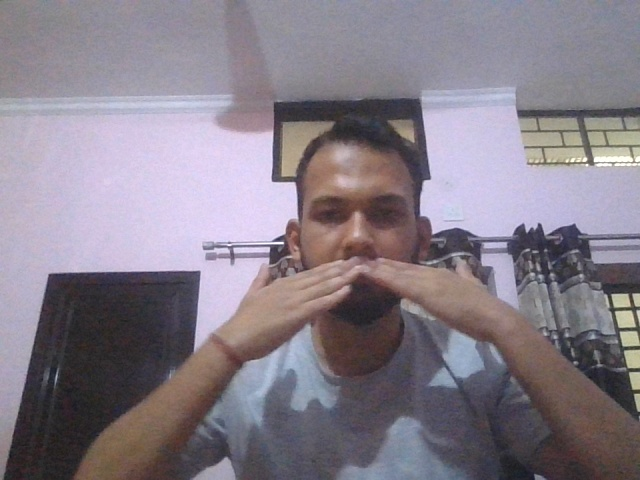thanks: (221, 262, 528, 350)
